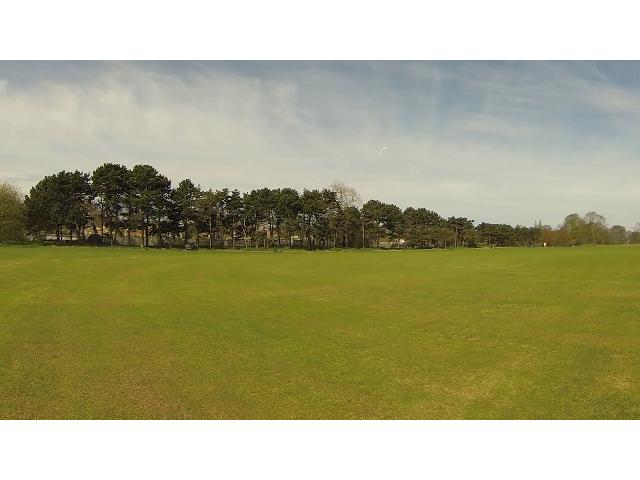Anti-Drone: (370, 142, 394, 160)
